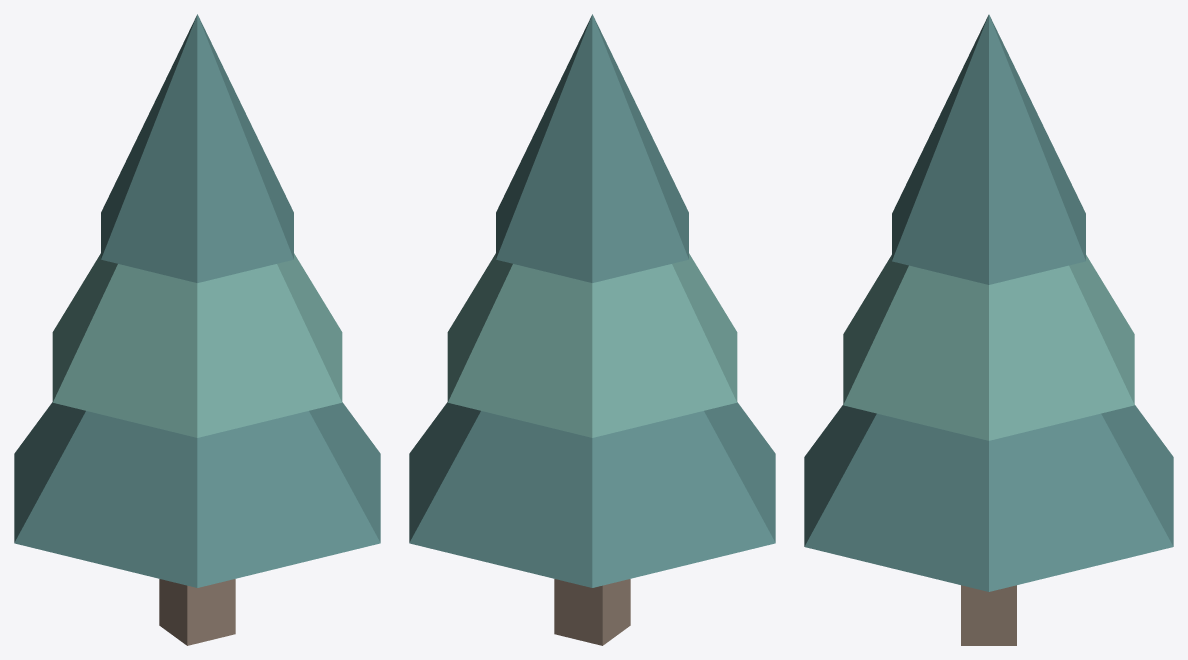
The model's file is pine.glb.
The picture shows the model from 3 angles, left to right: view 1: azimuth 30°, elevation 25°; view 2: azimuth 150°, elevation 25°; view 3: azimuth 270°, elevation 25°; orthographic projection.
Parts seen in each view (by area): view 1: Lower boughs, Middle boughs, Crown, Trunk; view 2: Lower boughs, Middle boughs, Crown, Trunk; view 3: Lower boughs, Middle boughs, Crown, Trunk.
Part boxes in pixels (x1,y1,x2,y2): Lower boughs: (14,402,380,587); Middle boughs: (52,253,342,437); Crown: (101,14,293,282); Trunk: (159,579,235,645); Lower boughs: (409,402,775,587); Middle boughs: (447,253,737,437); Crown: (496,14,688,282); Trunk: (554,579,630,645); Lower boughs: (804,405,1173,591); Middle boughs: (843,255,1134,440); Crown: (892,14,1085,284); Trunk: (961,585,1016,645).
Bounding box in the file's own units: 2.38 × 3.81 × 2.06.
